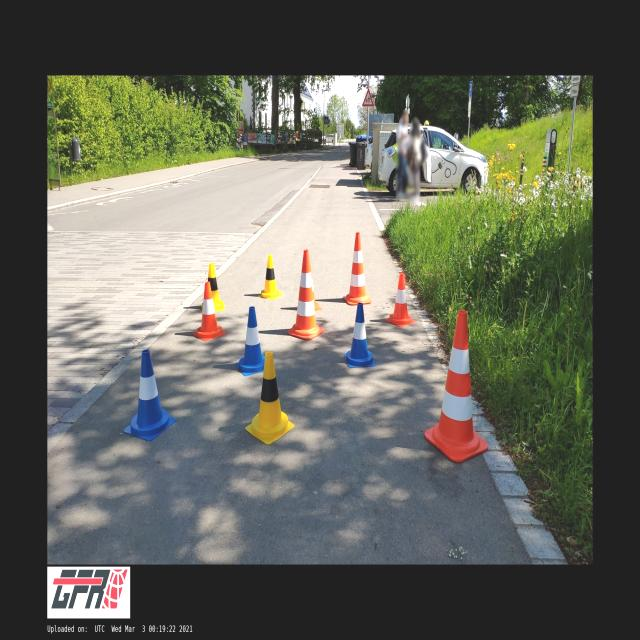blue_cone: (124, 350, 176, 440), (236, 307, 266, 376), (344, 304, 376, 368)
large_orange_cone: (424, 310, 488, 463), (290, 250, 324, 340), (343, 232, 371, 304)
orange_cone: (192, 282, 226, 342), (386, 273, 416, 327), (310, 264, 322, 312)
yellow_cone: (245, 352, 295, 444), (258, 255, 284, 300), (202, 263, 224, 311)
